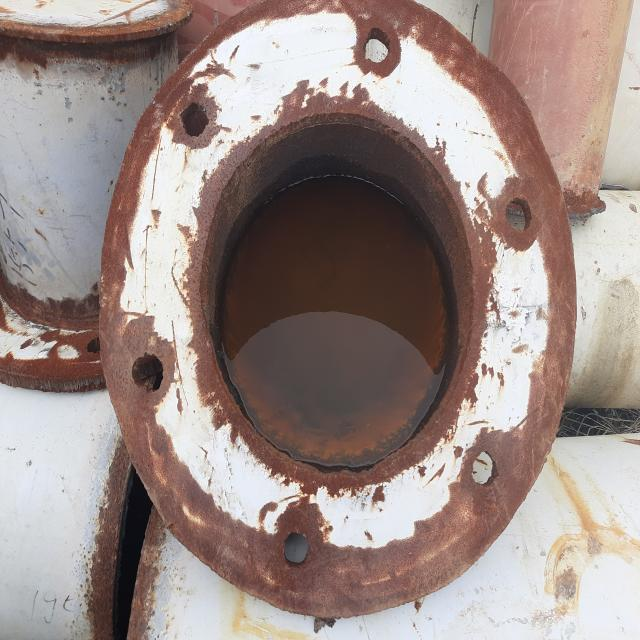Breeding Place: (96, 0, 589, 635)
